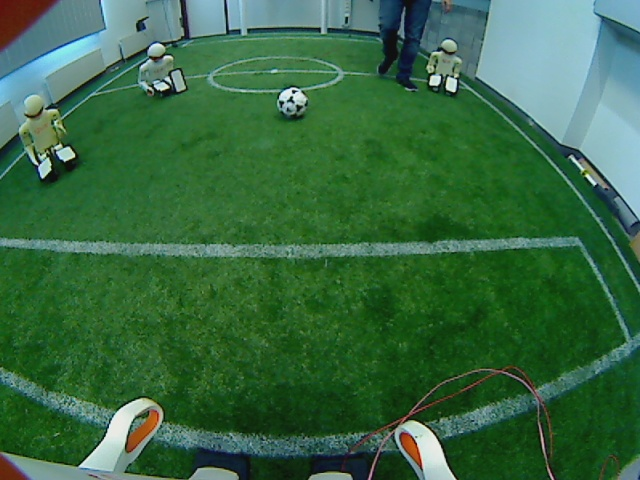ball: (270, 84, 311, 124)
robot: (16, 92, 80, 188), (136, 38, 191, 103), (423, 33, 467, 99)
